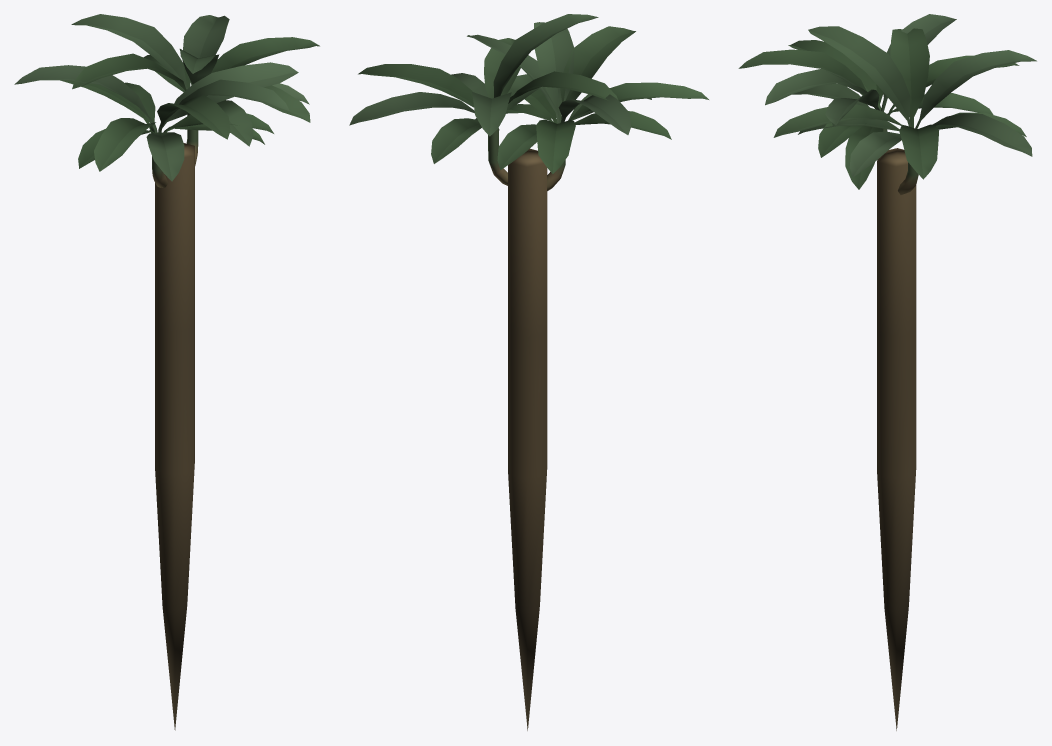
File: plants-trees-palms-palm-tree_v4.glb
The picture shows the model from 3 angles, left to right: view 1: azimuth 30°, elevation 25°; view 2: azimuth 150°, elevation 25°; view 3: azimuth 270°, elevation 25°; orthographic projection.
Visible parts, largest first — view 1: Palm Tree_v4; view 2: Palm Tree_v4; view 3: Palm Tree_v4.
Boxes of the visible parts, box(x1,y1,x2,y2) form: Palm Tree_v4: box(14, 14, 319, 730); Palm Tree_v4: box(349, 14, 708, 730); Palm Tree_v4: box(738, 14, 1036, 730).
Size of the model in its own units: 3.46 by 8 by 3.13.
